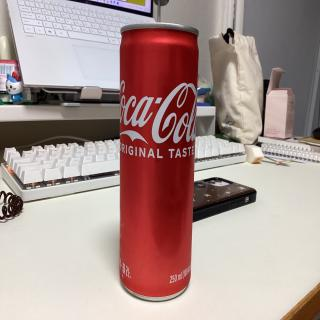cocacola: (116, 20, 202, 304)
